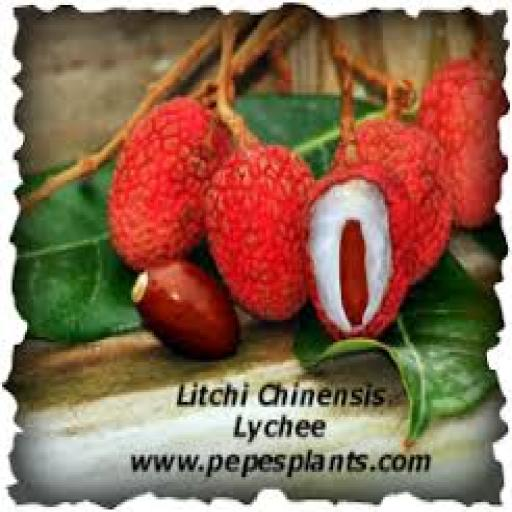lychee: (109, 98, 231, 269), (306, 163, 416, 339), (207, 143, 314, 319), (354, 120, 451, 279), (419, 60, 507, 227)
